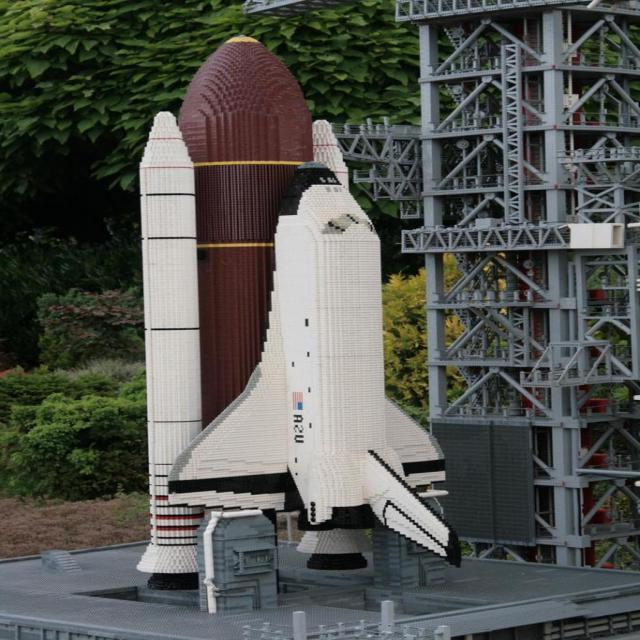missile: (127, 26, 467, 613)
